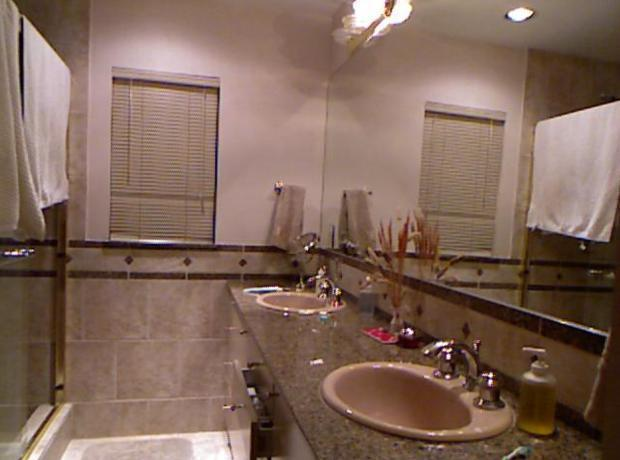Ducha: (0, 24, 80, 458)
Lavamanos: (320, 336, 514, 448), (254, 265, 347, 318)
